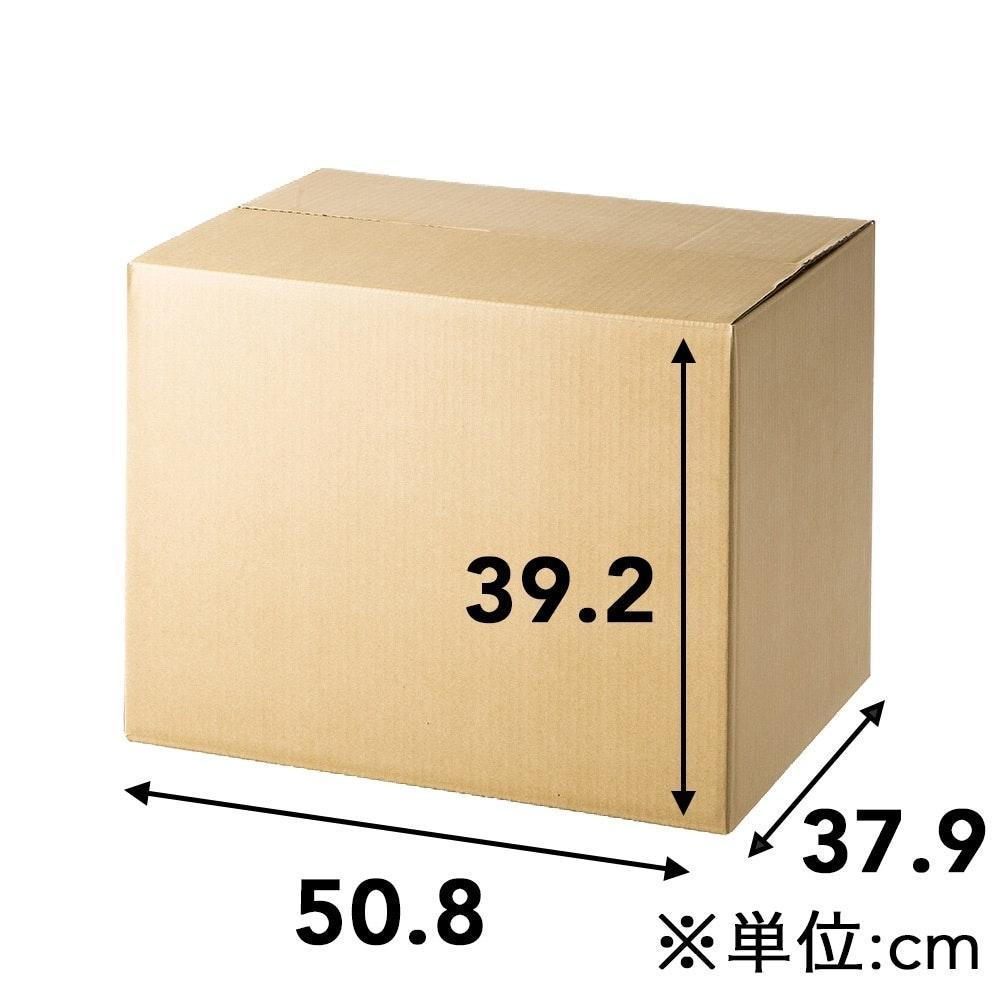box: (105, 157, 877, 835)
